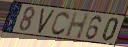0: (101, 17, 119, 43)
6: (85, 15, 102, 41)
8: (18, 6, 36, 33)
C: (50, 11, 71, 37)
H: (64, 12, 90, 41)
V: (37, 9, 56, 35)
